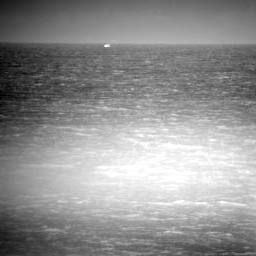Target: (103, 43, 112, 49)
